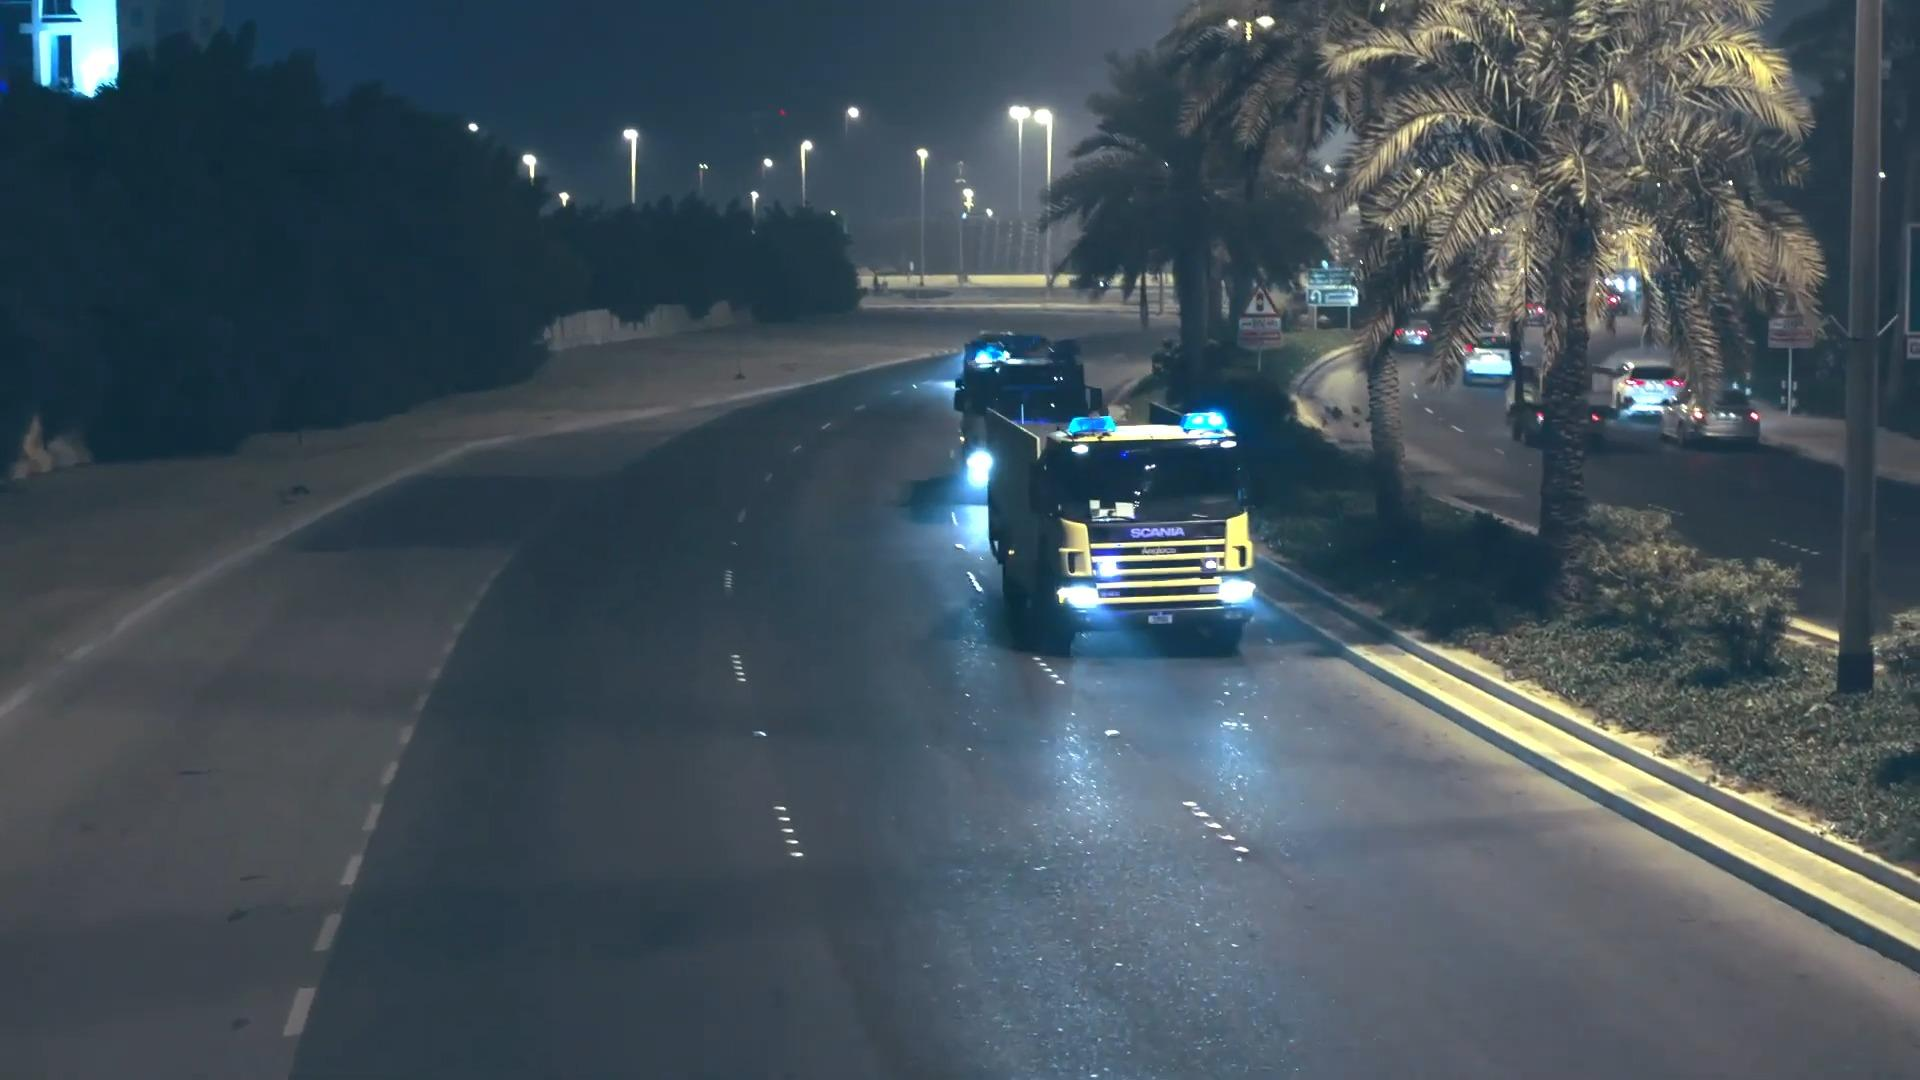firetruck_on: (982, 404, 1251, 653), (956, 332, 1104, 491)
